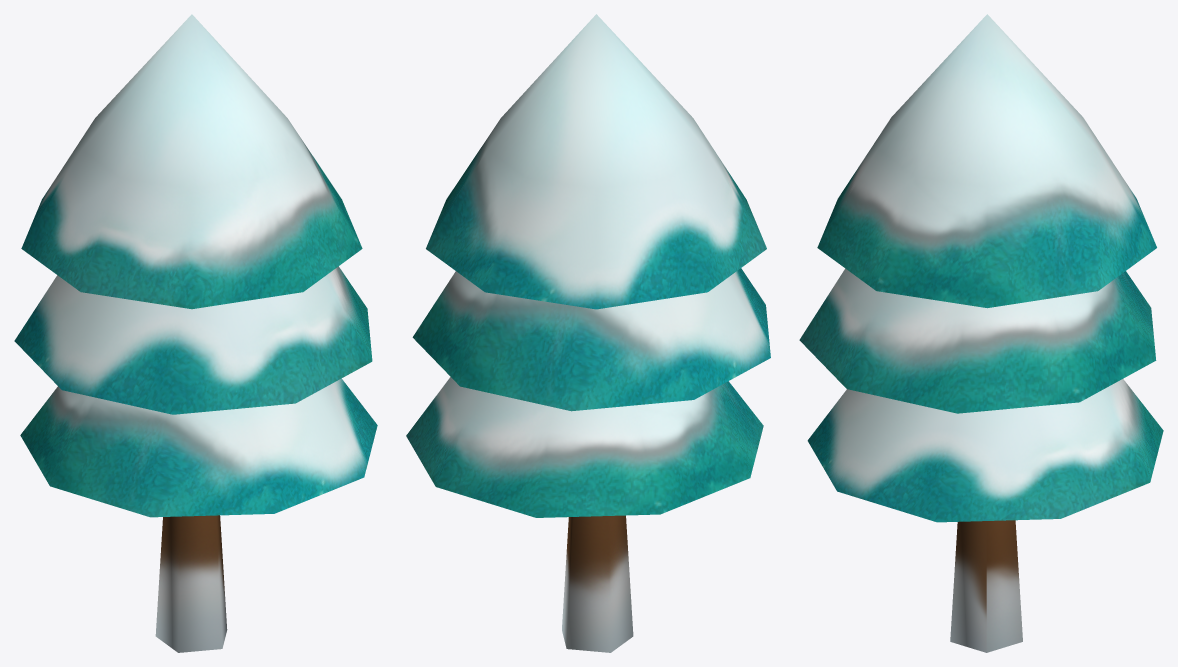
Rendered from IceTree.fbx.
3 renders of one model, left to right at view 1: azimuth 30°, elevation 25°; view 2: azimuth 150°, elevation 25°; view 3: azimuth 270°, elevation 25°, orthographic.
Visible parts, largest first — view 1: polySurface959, polySurface44; view 2: polySurface959, polySurface44; view 3: polySurface959, polySurface44.
Boxes of the visible parts, bbox=[...] form: polySurface959: bbox=[14, 14, 377, 517]; polySurface44: bbox=[155, 515, 227, 652]; polySurface959: bbox=[406, 14, 770, 517]; polySurface44: bbox=[562, 515, 633, 652]; polySurface959: bbox=[799, 14, 1163, 522]; polySurface44: bbox=[950, 520, 1022, 652].
Bounding box in the file's own units: 4.92 × 9.38 × 4.98.
Materials: 1 (1 with a texture image).
